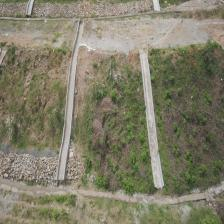rock toe: (33, 0, 152, 17), (1, 154, 58, 185), (1, 2, 28, 18)
slope drain: (56, 19, 83, 183), (140, 51, 164, 188)
